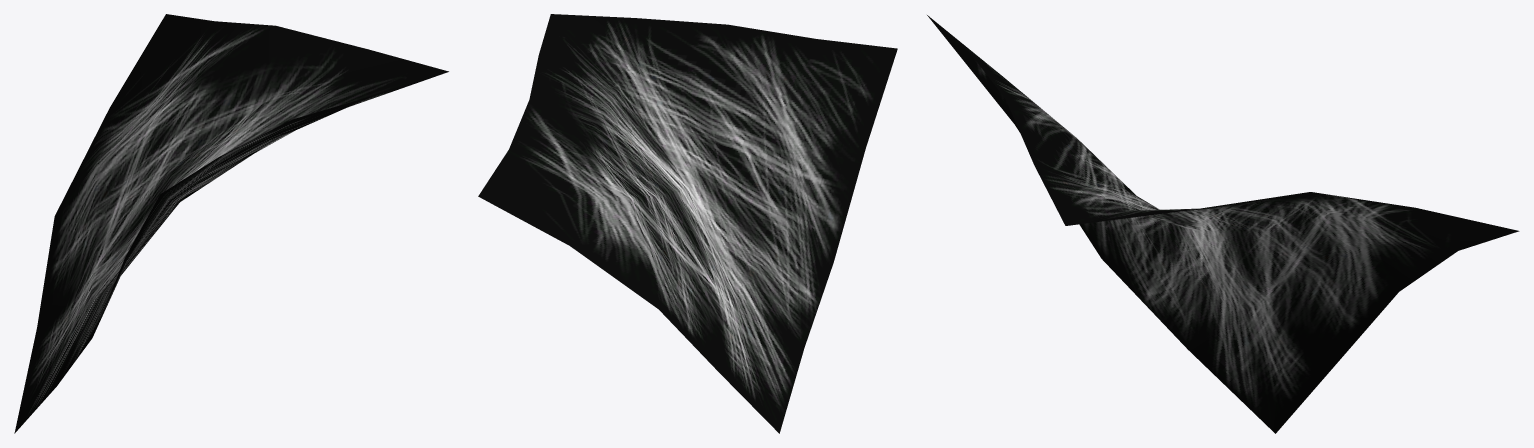
File: SWORDLIGHT20_PS-AREA01_CORNERWEB03.fbx
3 views of the same model, side by side, from view 1: azimuth 30°, elevation 25°; view 2: azimuth 150°, elevation 25°; view 3: azimuth 270°, elevation 25° (orthographic). The views are drawn at different scales.
Parts seen in each view (by area): view 1: SWORDLIGHT20_PS-AREA01_CORNERWEB03; view 2: SWORDLIGHT20_PS-AREA01_CORNERWEB03; view 3: SWORDLIGHT20_PS-AREA01_CORNERWEB03.
Boxes of the visible parts, <box> form: SWORDLIGHT20_PS-AREA01_CORNERWEB03: <box>14,14,448,433</box>; SWORDLIGHT20_PS-AREA01_CORNERWEB03: <box>478,14,897,433</box>; SWORDLIGHT20_PS-AREA01_CORNERWEB03: <box>927,15,1519,433</box>.
Size of the model in its own units: 74186 by 71525 by 88198.
1 material, 1 textured.
